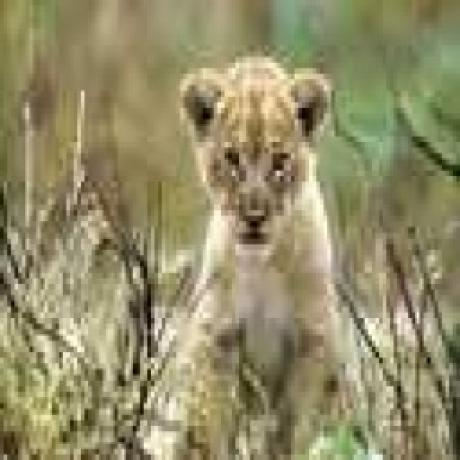Lion: (171, 52, 342, 365)
